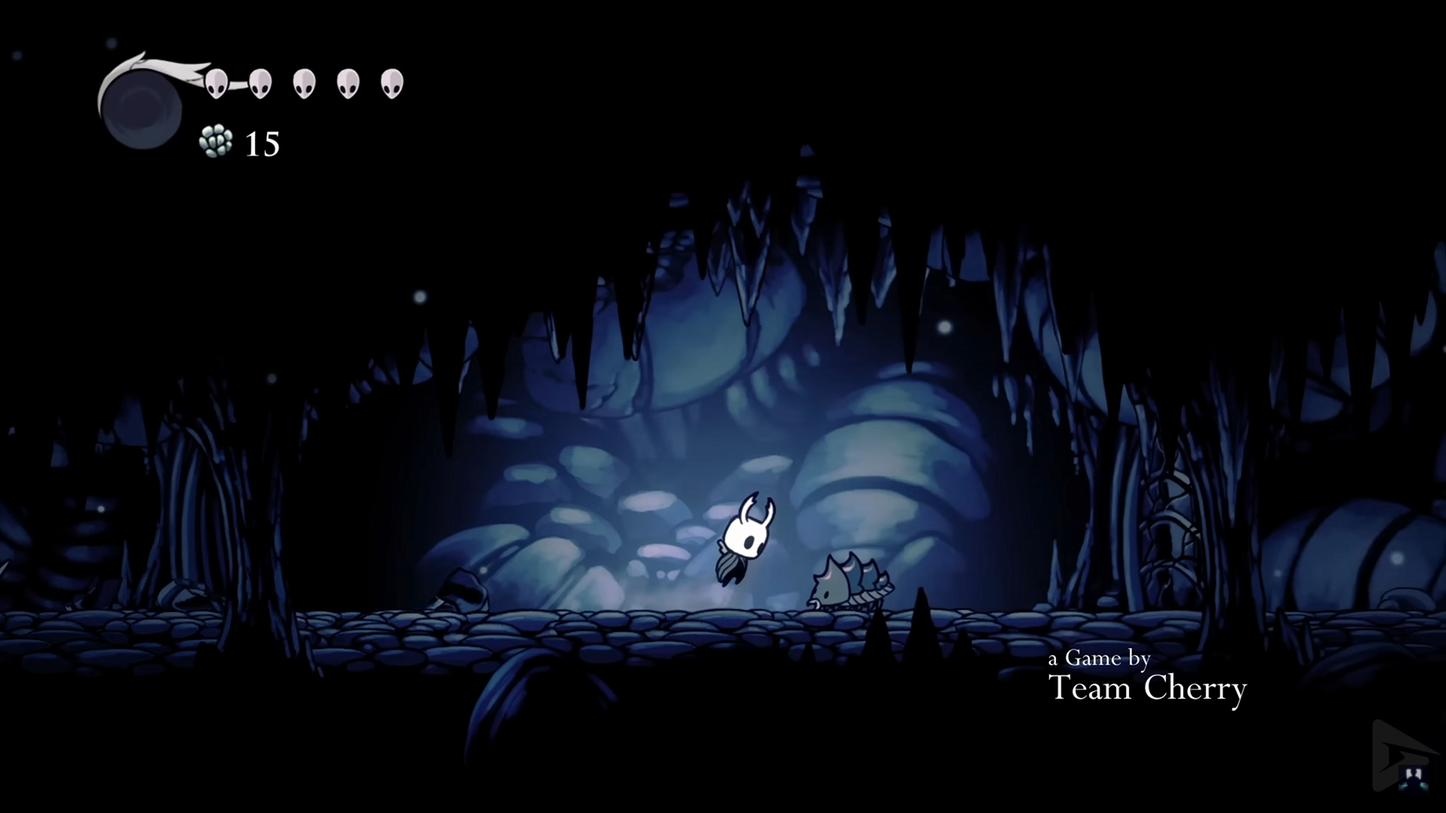HK: (714, 491, 776, 603)
